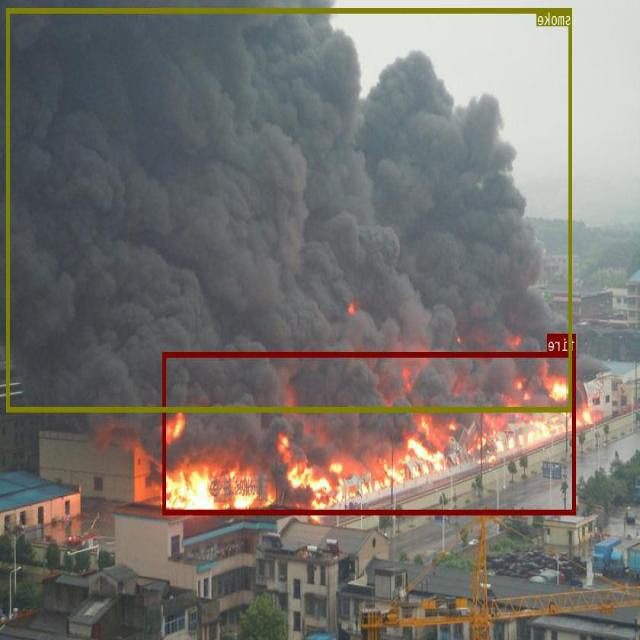fire: (164, 352, 576, 514)
smoke: (8, 7, 572, 411)
